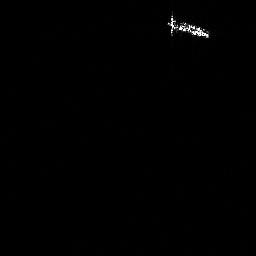ship: (165, 11, 213, 41)
